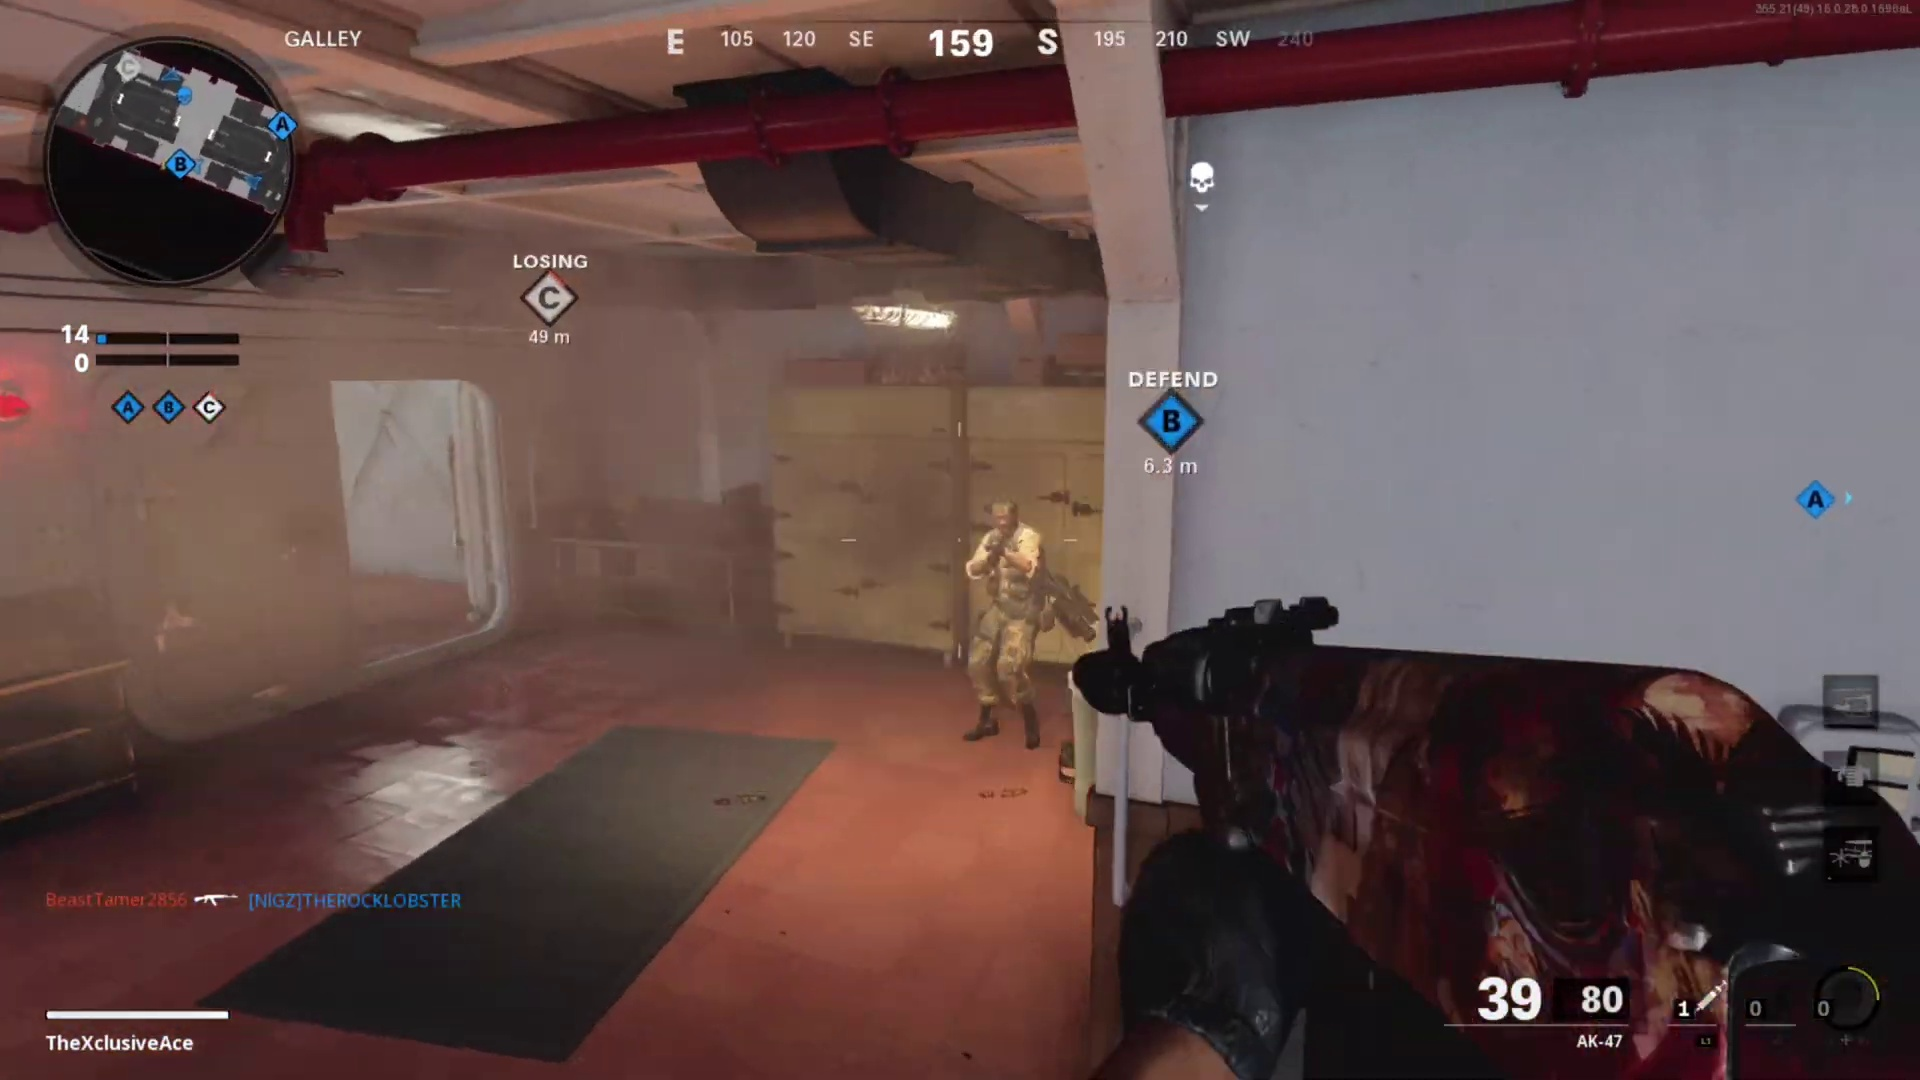head: (987, 498, 1022, 547)
person: (956, 495, 1041, 743)
